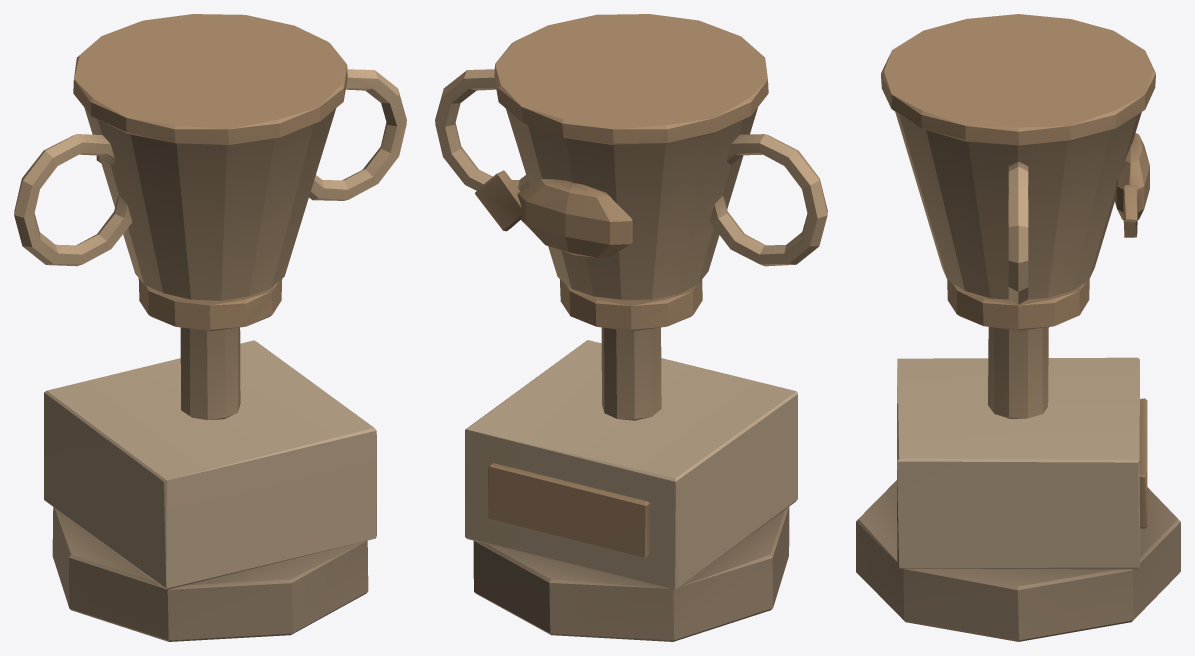
The model's file is event_trophy_fish_bronze_low.glb.
3 renders of one model, left to right at view 1: azimuth 30°, elevation 25°; view 2: azimuth 150°, elevation 25°; view 3: azimuth 270°, elevation 25°, orthographic.
Size of the model in its own units: 0.4423 by 0.545 by 0.3186.
